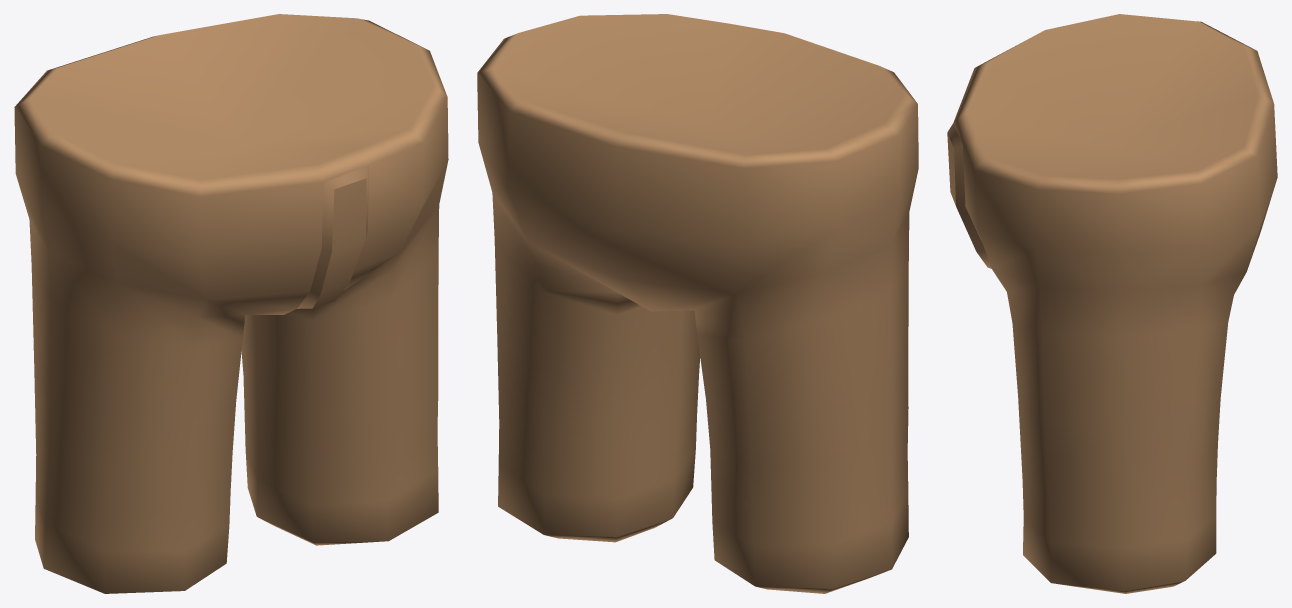
The model's file is Bottom_17.fbx.
3 views of the same model, side by side, from view 1: azimuth 30°, elevation 25°; view 2: azimuth 150°, elevation 25°; view 3: azimuth 270°, elevation 25° (orthographic). The views are drawn at different scales.
Visible parts, largest first — view 1: Bottom_17; view 2: Bottom_17; view 3: Bottom_17.
Part boxes in pixels (x1,y1,x2,y2): Bottom_17: (14, 14, 448, 593); Bottom_17: (477, 14, 918, 593); Bottom_17: (947, 14, 1277, 593).
Size of the model in its own units: 38.53 by 42.7 by 30.23.
